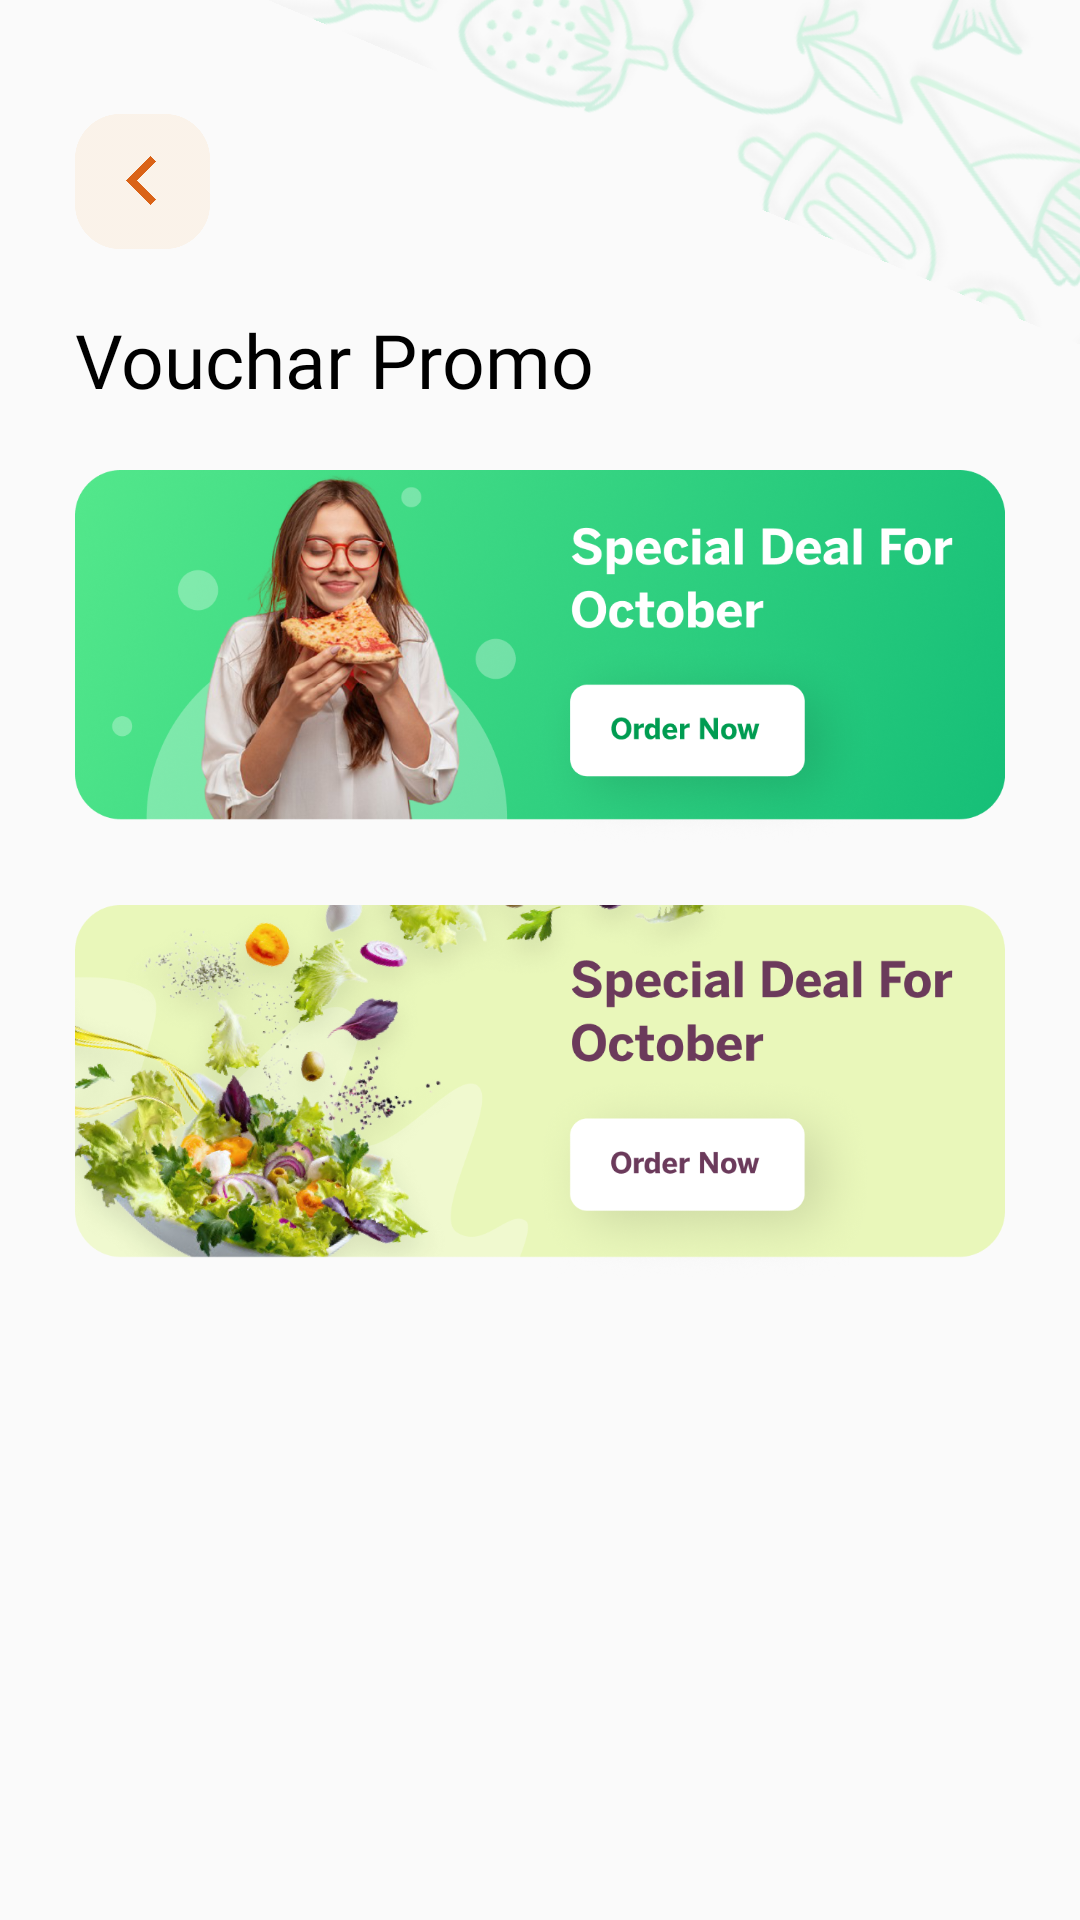

Locate icon controls on the screen. Image size 1080px x 1920px, boxes as (x1, y1, x2, y2).
backicon: (75, 114, 210, 249)
